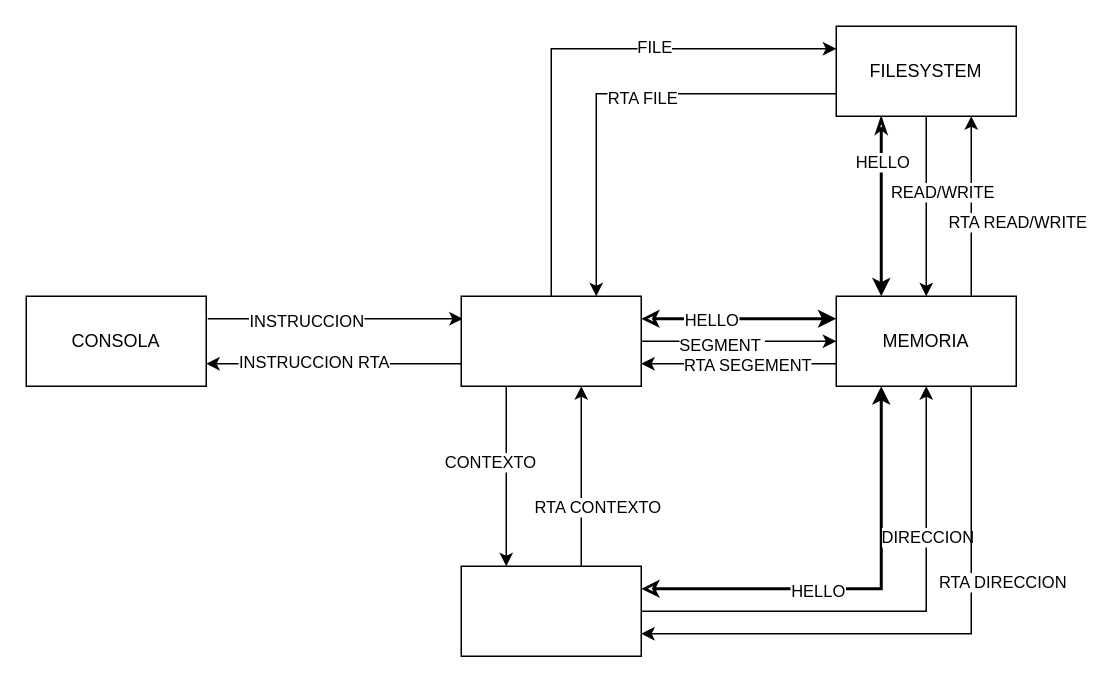
Image size: 1113x683. Some labels were removed from this diagram. The shapes that lost their labels are listed below. From the top down, each one's box as (x1, y1, x2, y2) in pixels, then its label:
(460, 295, 641, 386): KERNEL
(460, 565, 641, 656): CPU
